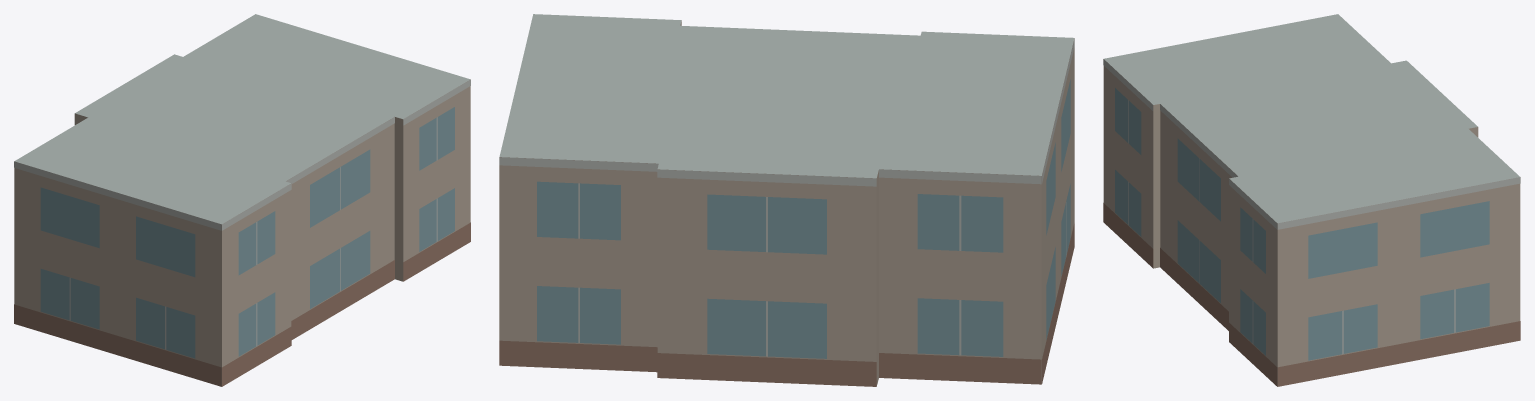
The model's file is survey-upis-32776883.glb.
The picture shows the model from 3 angles, left to right: view 1: azimuth 30°, elevation 25°; view 2: azimuth 150°, elevation 25°; view 3: azimuth 270°, elevation 25°; orthographic projection. The views are drawn at different scales.
Parts seen in each view (by area): view 1: survey-upis-32776883.tmp; view 2: survey-upis-32776883.tmp; view 3: survey-upis-32776883.tmp.
Part boxes in pixels (<box>): survey-upis-32776883.tmp: <box>14,14,470,386</box>; survey-upis-32776883.tmp: <box>499,14,1074,386</box>; survey-upis-32776883.tmp: <box>1103,14,1520,386</box>.
Size of the model in its own units: 16.76 by 6.1 by 14.11.
